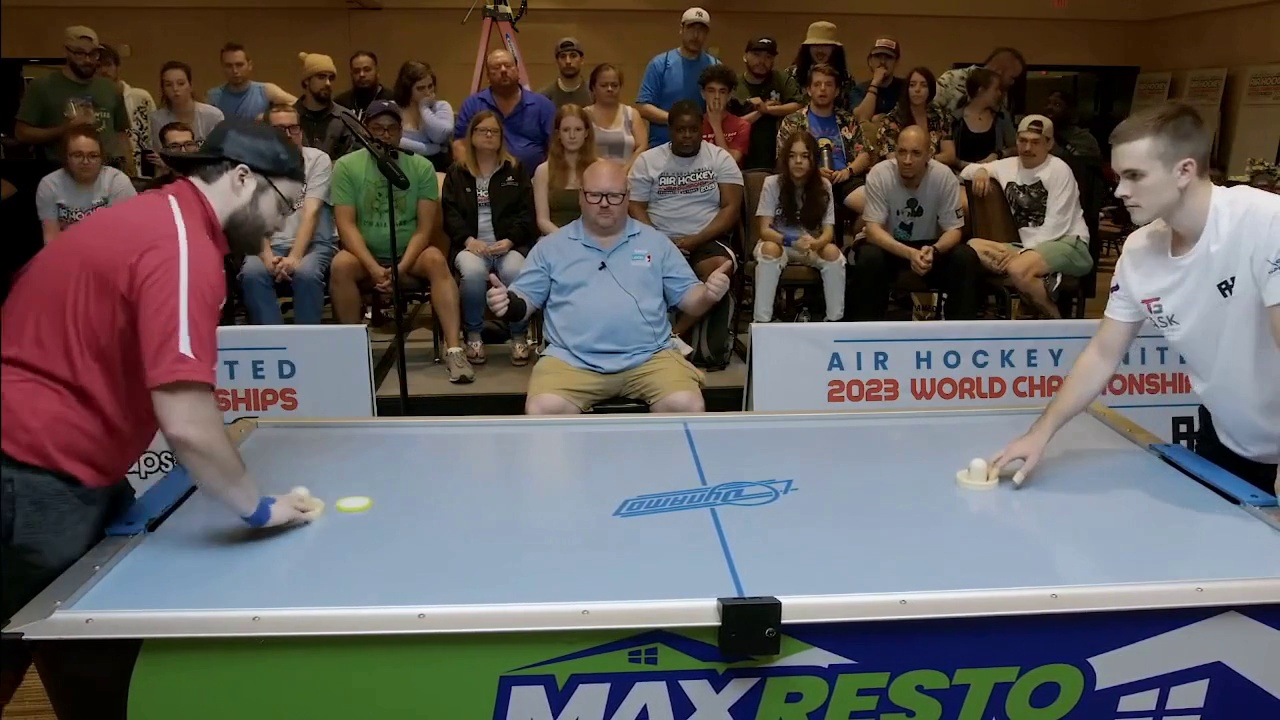player: (952, 456, 1005, 491), (282, 484, 328, 514)
puck: (335, 495, 379, 516)
table: (59, 417, 1280, 588)
